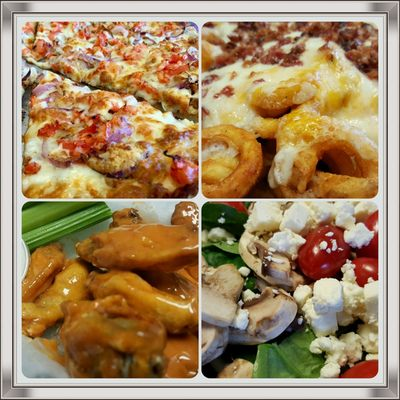burger: (21, 202, 114, 254)
